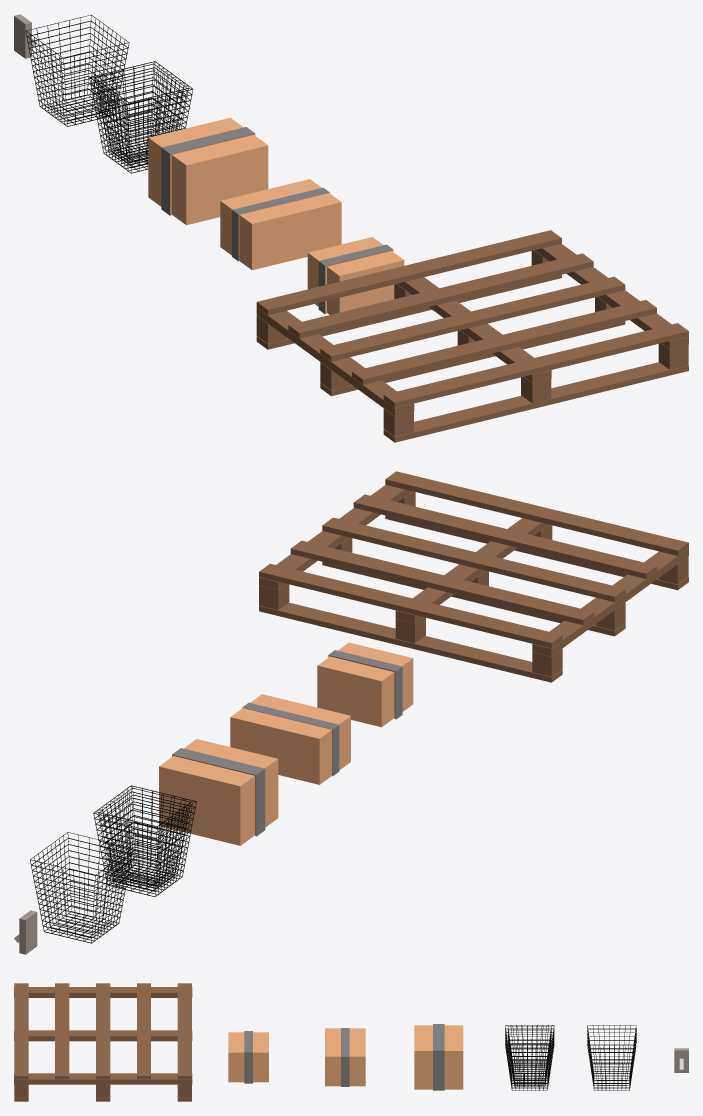
Rendered from коробки (2).fbx.
3 views of the same model, one above another, from view 1: azimuth 30°, elevation 25°; view 2: azimuth 150°, elevation 25°; view 3: azimuth 270°, elevation 25° (orthographic). The views are drawn at different scales.
Parts seen in each view (by area): view 1: Cube.005, Cube.001, Cube, Cube.003, Cube.004, Cube.002, Cube.025; view 2: Cube.005, Cube.001, Cube, Cube.003, Cube.002, Cube.004, Cube.025; view 3: Cube.005, Cube.001, Cube.003, Cube, Cube.002, Cube.004, Cube.025.
Boxes of the visible parts, <box> form: Cube.005: <box>256,230,688,442</box>; Cube.001: <box>148,117,268,225</box>; Cube: <box>220,179,341,270</box>; Cube.003: <box>89,61,193,173</box>; Cube.004: <box>25,15,129,126</box>; Cube.002: <box>307,237,404,314</box>; Cube.025: <box>14,14,31,58</box>; Cube.005: <box>259,471,688,682</box>; Cube.001: <box>159,739,278,845</box>; Cube: <box>230,694,350,784</box>; Cube.003: <box>93,785,196,896</box>; Cube.002: <box>317,642,413,727</box>; Cube.004: <box>30,832,133,943</box>; Cube.025: <box>19,910,37,954</box>; Cube.005: <box>14,983,192,1101</box>; Cube.001: <box>414,1024,463,1090</box>; Cube.003: <box>505,1025,554,1090</box>; Cube: <box>325,1028,365,1086</box>; Cube.002: <box>228,1031,268,1083</box>; Cube.004: <box>587,1025,636,1090</box>; Cube.025: <box>674,1048,688,1072</box>.
Size of the model in its own units: 1070 by 290 by 3302.
